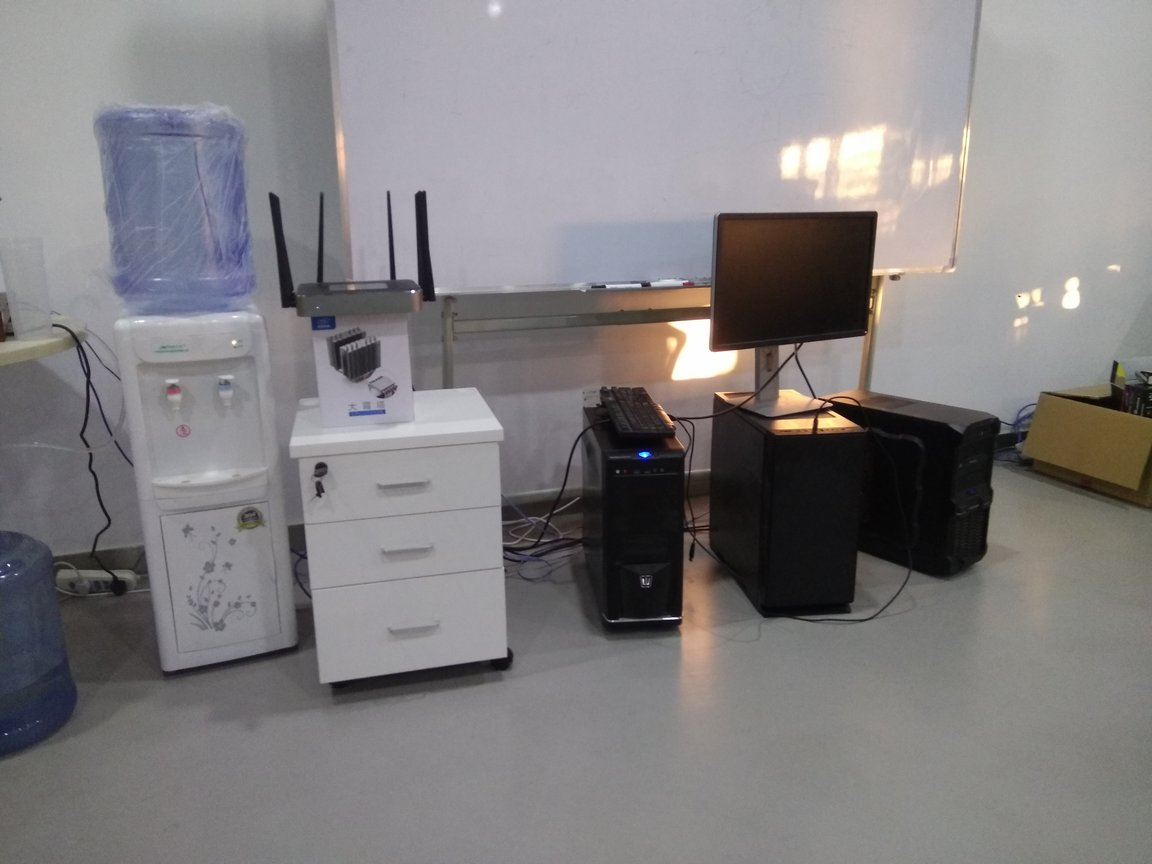computer: (706, 388, 863, 621), (820, 387, 997, 583), (581, 388, 692, 633)
drawer chest: (288, 389, 525, 701)
monitor: (706, 207, 880, 419)
scuttlebutt: (92, 96, 267, 308), (1, 521, 94, 771)
water dispenser: (111, 306, 298, 661)
